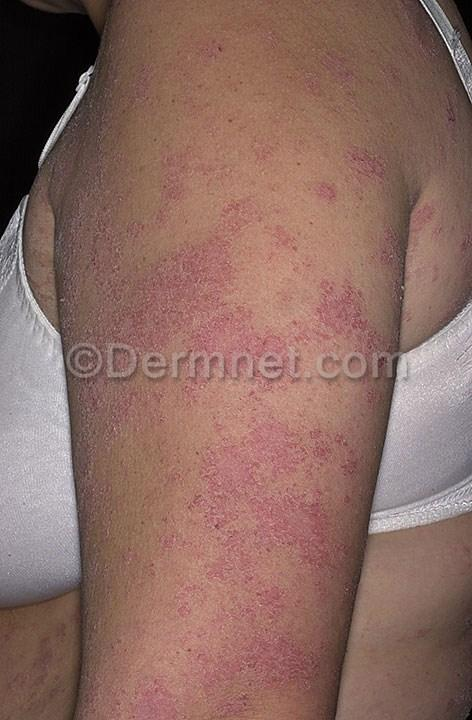Eczema: (78, 159, 294, 387), (188, 393, 352, 619), (287, 220, 403, 382), (72, 586, 212, 720), (291, 92, 423, 210), (215, 615, 333, 715)
